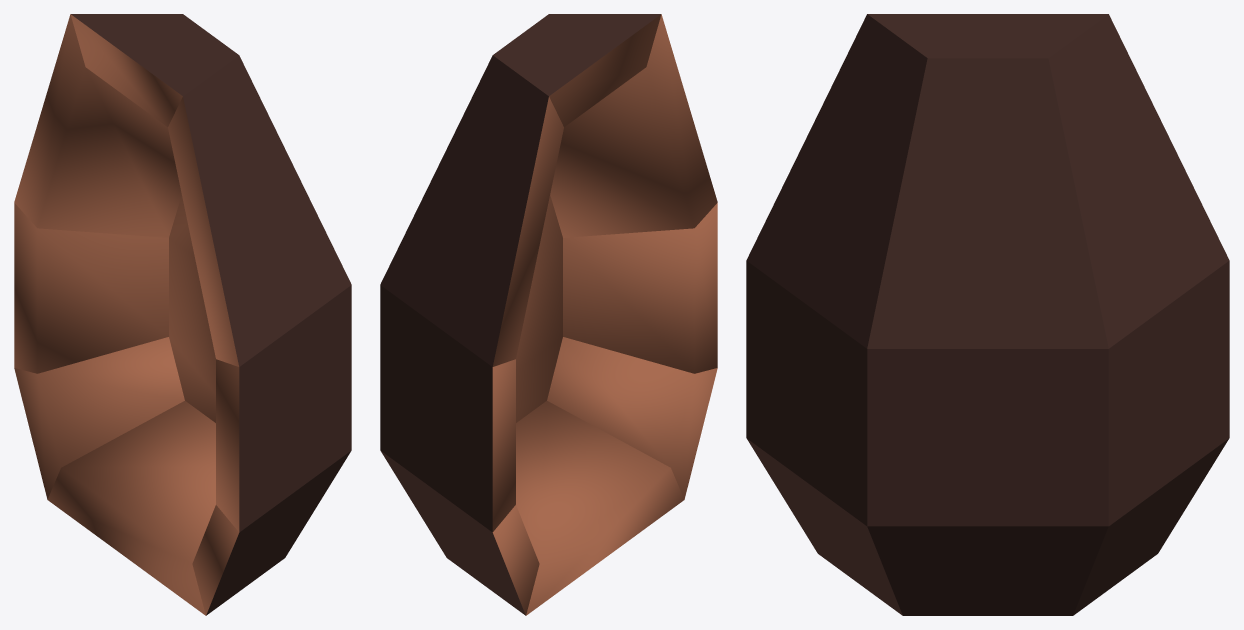
Rendered from peel_separate_collider.obj.
3 views of the same model, side by side, from view 1: azimuth 30°, elevation 25°; view 2: azimuth 150°, elevation 25°; view 3: azimuth 270°, elevation 25° (orthographic). The views are drawn at different scales.
Visible parts, largest first — view 1: avocadoHalf.002, avocadoHalf.005_avocadoHalf.006, avocadoHalf.010_avocadoHalf.011, avocadoHalf.007_avocadoHalf.008, avocadoHalf.009_avocadoHalf.010, avocadoHalf.008_avocadoHalf.009, avocadoHalf.011_avocadoHalf.012, avocadoHalf.006_avocadoHalf.007, avocadoHalf.012_avocadoHalf.013; view 2: avocadoHalf.010_avocadoHalf.011, avocadoHalf.009_avocadoHalf.010, avocadoHalf.002, avocadoHalf.007_avocadoHalf.008, avocadoHalf.005_avocadoHalf.006, avocadoHalf.006_avocadoHalf.007, avocadoHalf.011_avocadoHalf.012, avocadoHalf.008_avocadoHalf.009, avocadoHalf.012_avocadoHalf.013; view 3: avocadoHalf.012_avocadoHalf.013, avocadoHalf.002, avocadoHalf.010_avocadoHalf.011, avocadoHalf.005_avocadoHalf.006, avocadoHalf.009_avocadoHalf.010, avocadoHalf.011_avocadoHalf.012, avocadoHalf.006_avocadoHalf.007, avocadoHalf.008_avocadoHalf.009.
Part boxes in pixels (x1,y1,x2,y2): avocadoHalf.002: [168, 55, 351, 366]; avocadoHalf.005_avocadoHalf.006: [216, 285, 351, 532]; avocadoHalf.010_avocadoHalf.011: [14, 14, 181, 237]; avocadoHalf.007_avocadoHalf.008: [47, 401, 215, 615]; avocadoHalf.009_avocadoHalf.010: [14, 203, 168, 373]; avocadoHalf.008_avocadoHalf.009: [14, 337, 184, 499]; avocadoHalf.011_avocadoHalf.012: [70, 14, 238, 126]; avocadoHalf.006_avocadoHalf.007: [192, 450, 351, 615]; avocadoHalf.012_avocadoHalf.013: [169, 195, 215, 422]; avocadoHalf.010_avocadoHalf.011: [380, 55, 563, 366]; avocadoHalf.009_avocadoHalf.010: [380, 285, 515, 532]; avocadoHalf.002: [550, 14, 717, 237]; avocadoHalf.007_avocadoHalf.008: [516, 401, 684, 615]; avocadoHalf.005_avocadoHalf.006: [563, 203, 717, 373]; avocadoHalf.006_avocadoHalf.007: [547, 337, 717, 499]; avocadoHalf.011_avocadoHalf.012: [493, 14, 661, 126]; avocadoHalf.008_avocadoHalf.009: [380, 450, 539, 615]; avocadoHalf.012_avocadoHalf.013: [516, 195, 562, 422]; avocadoHalf.012_avocadoHalf.013: [867, 58, 1108, 615]; avocadoHalf.002: [746, 14, 927, 348]; avocadoHalf.010_avocadoHalf.011: [1048, 14, 1229, 348]; avocadoHalf.005_avocadoHalf.006: [746, 260, 867, 525]; avocadoHalf.009_avocadoHalf.010: [1108, 260, 1229, 525]; avocadoHalf.011_avocadoHalf.012: [867, 14, 1108, 58]; avocadoHalf.006_avocadoHalf.007: [746, 438, 902, 615]; avocadoHalf.008_avocadoHalf.009: [1073, 438, 1229, 615].
Bounding box in the file's own units: 0.0816 × 0.2322 × 0.1884.
